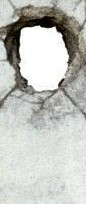Spalling: (1, 1, 86, 121)
